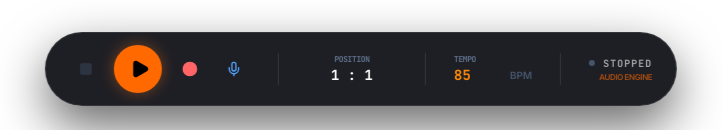
TransportBar › resets tempo input to current tempo on blur with invalid input
The image size is (722, 130).
Replace the text in the field named "tempo in beats per minute" with "abc": (478, 75) [454, 64, 502, 86]
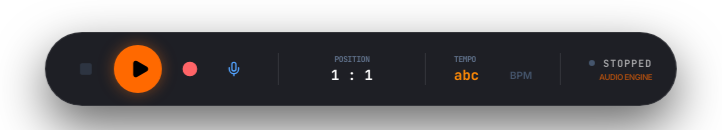
Leave the field named "tempo in beats per minute", box [454, 64, 502, 86]
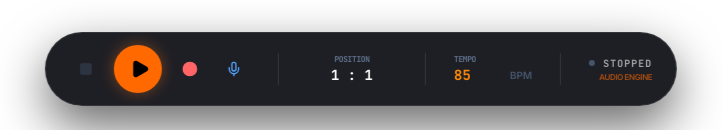
Expected: the field named "tempo in beats per minute" holds "85", [454, 64, 502, 86]
